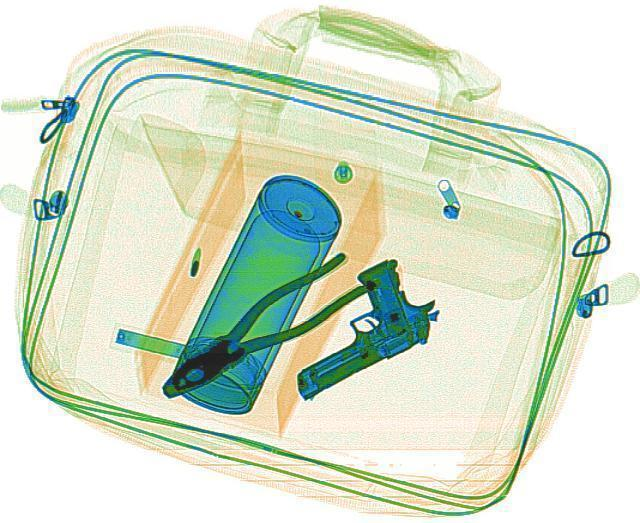Gun: (240, 252, 458, 399)
Pliers: (142, 246, 378, 409)
